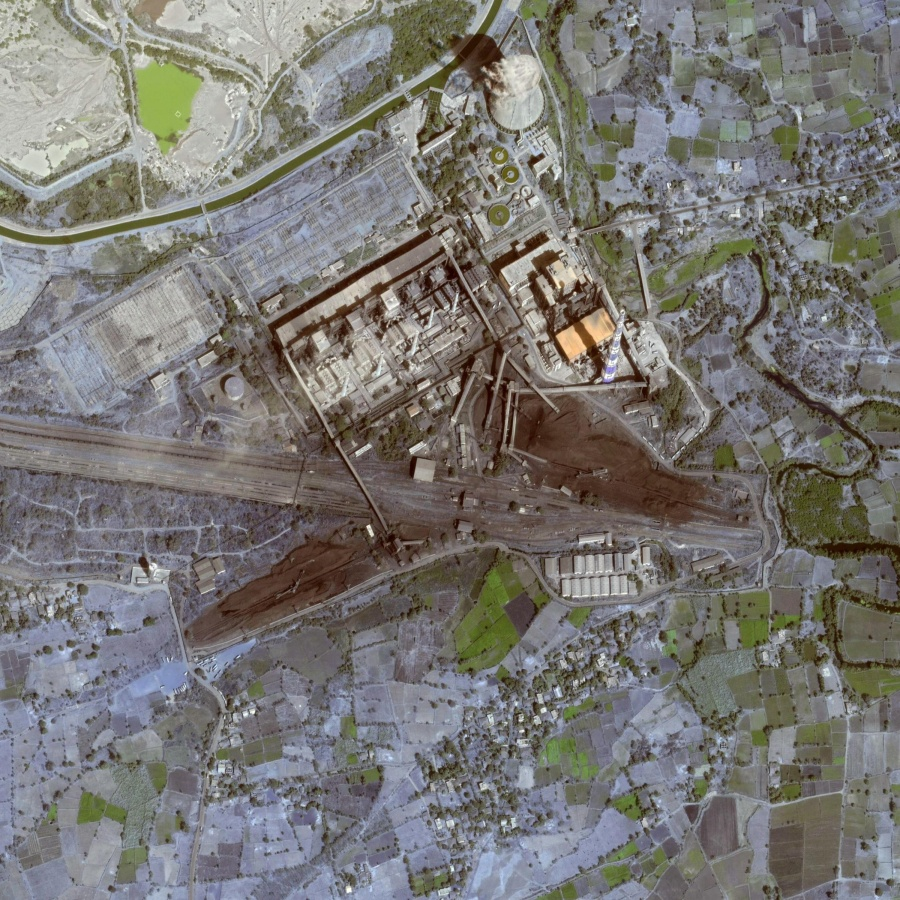PowerPlant: (183, 55, 737, 644)
